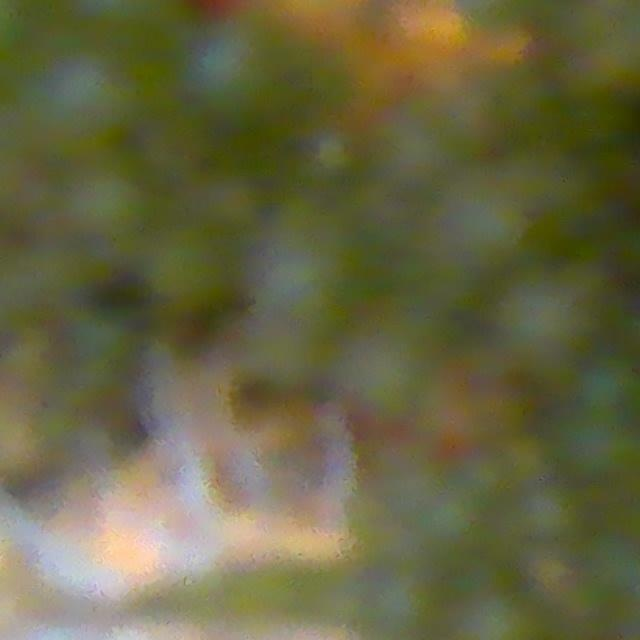SeaGrape: (17, 40, 141, 154), (490, 260, 599, 375), (178, 14, 282, 118), (572, 351, 640, 428), (515, 479, 587, 546), (464, 591, 546, 640)
